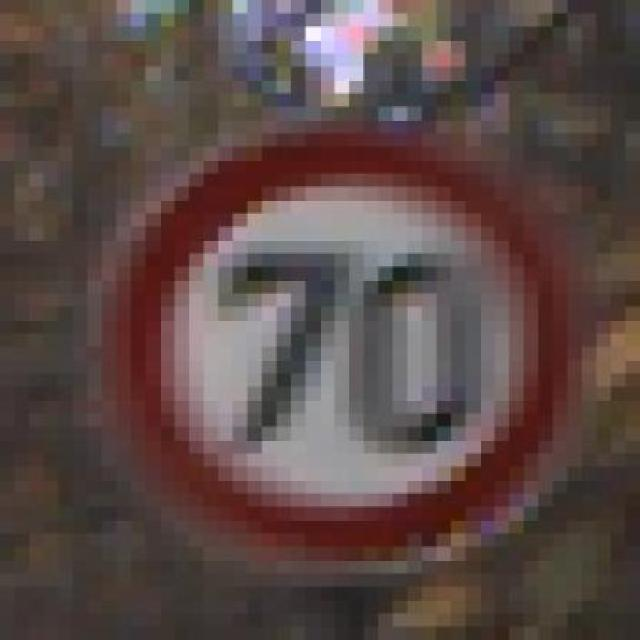forb_speed_over_70: (102, 133, 573, 562)
